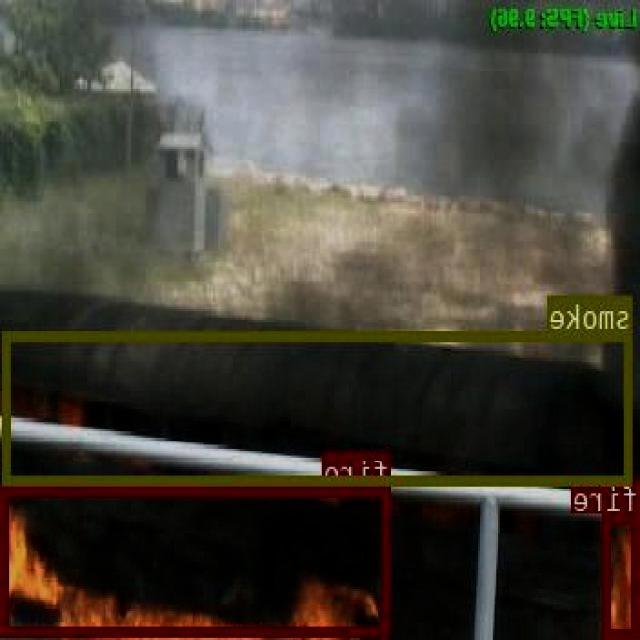fire: (4, 486, 392, 634), (605, 514, 640, 636)
smoke: (4, 331, 634, 483)
